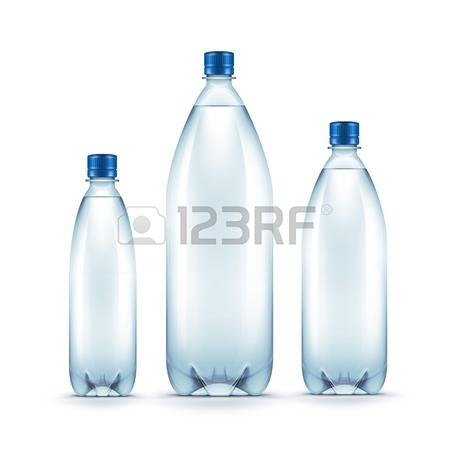emptybottle: (166, 51, 272, 397), (303, 121, 387, 395), (69, 153, 137, 395)
